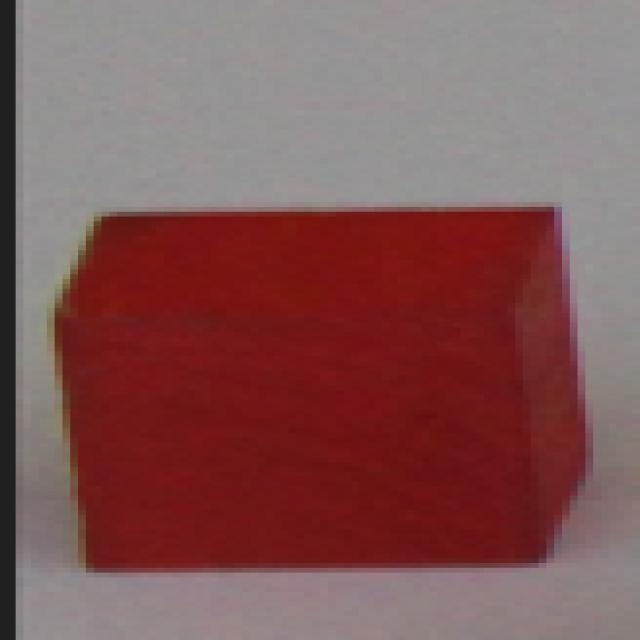red cube: (60, 207, 594, 572)
